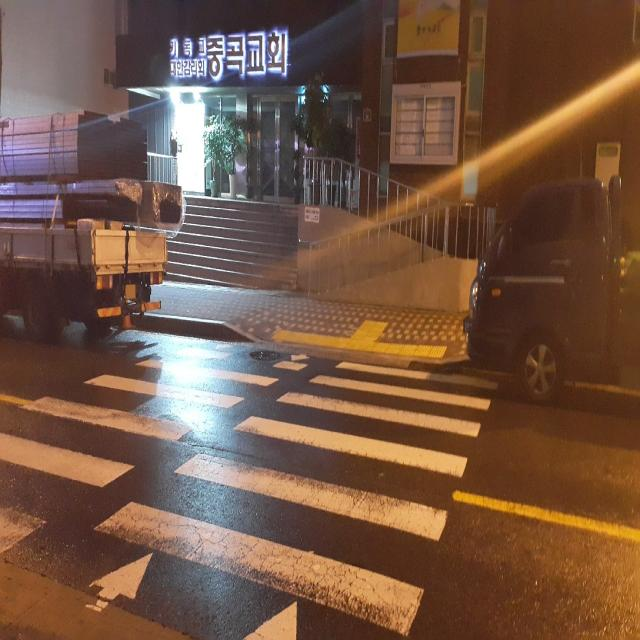횡단보도: (0, 348, 500, 640)
